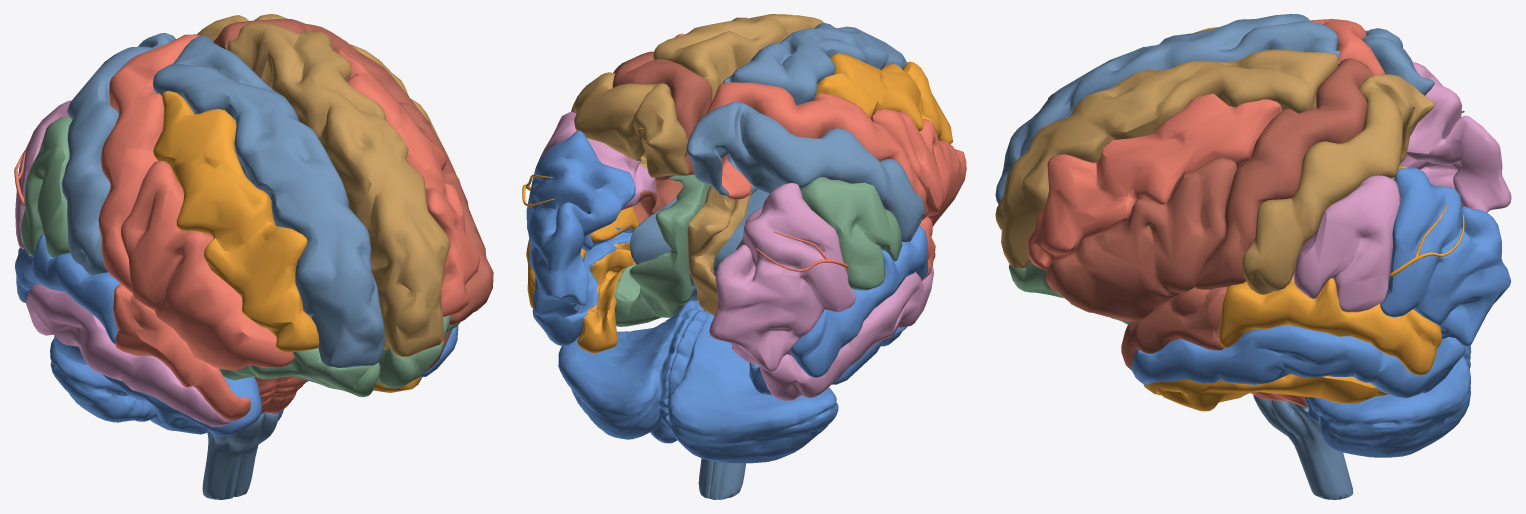
Rendered from brain.glb.
3 views of the same model, side by side, from view 1: azimuth 30°, elevation 25°; view 2: azimuth 150°, elevation 25°; view 3: azimuth 270°, elevation 25° (orthographic). The views are drawn at different scales.
Visible parts, largest first — view 1: Right superior frontal gyrus, Left superior frontal gyrus, Right middle frontal gyrus, Right inferior frontal gyrus, Right precentral gyrus, Right postcentral gyrus, Right middle temporal gyrus, Left middle frontal gyrus, Anterior part of right superior temporal gyrus, Orbital gyrus (×2), Right supramarginal gyrus, Posterior part of right superior temporal gyrus (+8 smaller); view 2: Cerebellum (×2), Right angular gyrus, Right postcentral gyrus, Left angular gyrus, Left postcentral gyrus, Right precentral gyrus, Right superior frontal gyrus, Right supramarginal gyrus, Left superior frontal gyrus, Right middle frontal gyrus, Right middle temporal gyrus, Posterior part of right superior temporal gyrus (+13 smaller); view 3: Left superior frontal gyrus, Left middle frontal gyrus, Left inferior frontal gyrus, Left angular gyrus, Left postcentral gyrus, Left middle temporal gyrus, Left precentral gyrus, Right superior frontal gyrus, Left supramarginal gyrus, Posterior part of left superior temporal gyrus, Cerebellum, Right angular gyrus (+6 smaller).
Boxes of the visible parts, box(x1,y1,x2,y2) form: Right superior frontal gyrus: box(152, 35, 384, 367); Left superior frontal gyrus: box(227, 22, 450, 357); Right middle frontal gyrus: box(153, 91, 319, 352); Right inferior frontal gyrus: box(121, 160, 294, 370); Right precentral gyrus: box(98, 34, 200, 293); Right postcentral gyrus: box(61, 33, 175, 274); Right middle temporal gyrus: box(26, 283, 229, 426); Left middle frontal gyrus: box(335, 49, 480, 316); Anterior part of right superior temporal gyrus: box(113, 284, 250, 420); Orbital gyrus (×2): box(219, 314, 460, 397); Right supramarginal gyrus: box(20, 117, 72, 257); Posterior part of right superior temporal gyrus: box(15, 234, 120, 344); Cerebellum (×2): box(558, 300, 838, 463); Right angular gyrus: box(709, 183, 856, 371); Right postcentral gyrus: box(686, 101, 924, 242); Left angular gyrus: box(526, 130, 635, 318); Left postcentral gyrus: box(571, 72, 688, 177); Right precentral gyrus: box(706, 82, 928, 220); Right superior frontal gyrus: box(722, 23, 907, 193); Right supramarginal gyrus: box(800, 177, 902, 290); Left superior frontal gyrus: box(653, 14, 824, 102); Right middle frontal gyrus: box(812, 53, 952, 144); Right middle temporal gyrus: box(759, 265, 933, 400); Posterior part of right superior temporal gyrus: box(790, 225, 928, 377); Left superior frontal gyrus: box(995, 49, 1339, 268); Left middle frontal gyrus: box(1027, 93, 1281, 270); Left inferior frontal gyrus: box(1046, 158, 1236, 321); Left angular gyrus: box(1380, 168, 1511, 346); Left postcentral gyrus: box(1242, 74, 1434, 294); Left middle temporal gyrus: box(1130, 324, 1465, 398); Left precentral gyrus: box(1194, 58, 1373, 289); Right superior frontal gyrus: box(995, 14, 1340, 204); Left supramarginal gyrus: box(1294, 175, 1400, 312); Posterior part of left superior temporal gyrus: box(1219, 275, 1441, 375); Cerebellum: box(1305, 356, 1470, 457); Right angular gyrus: box(1399, 61, 1511, 212).
Bounding box in the file's own units: 1.65 × 1.94 × 2.
